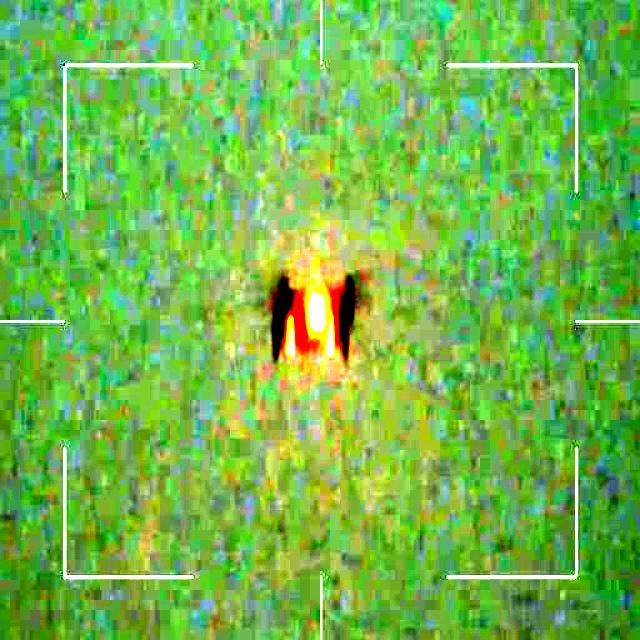bird: (272, 270, 356, 360)
